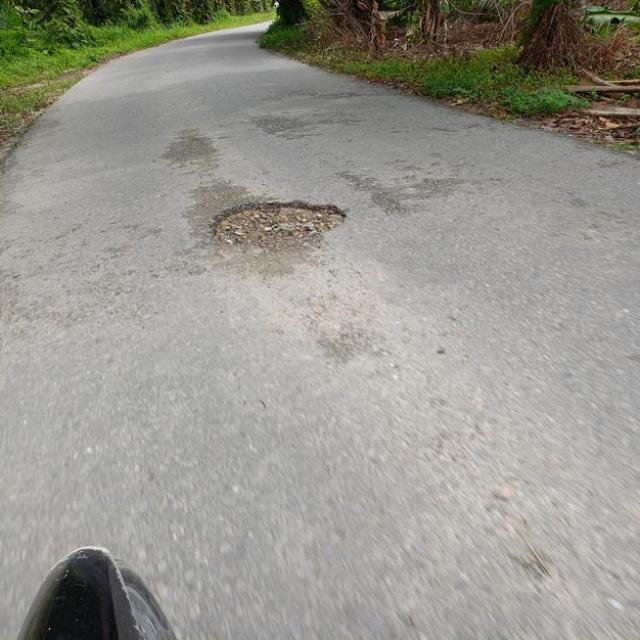Lubang: (214, 199, 348, 249)
